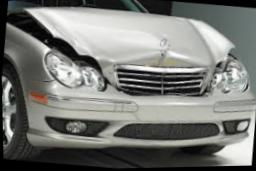Bonnet: (7, 8, 237, 98)
